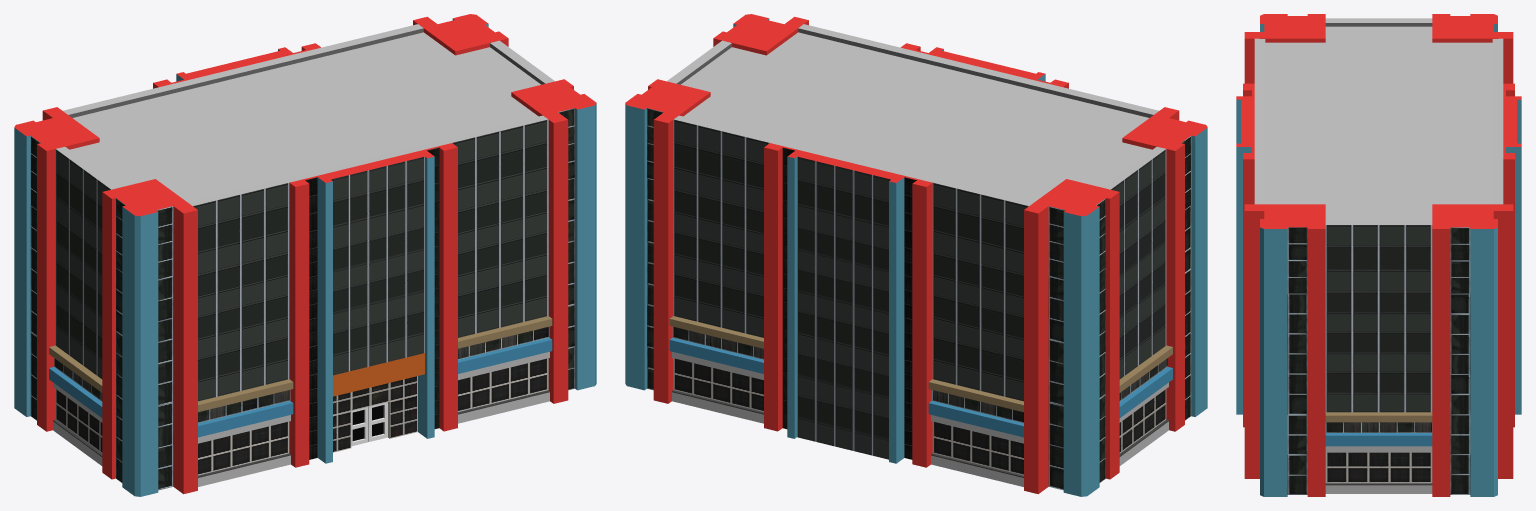
3 renders of one model, left to right at view 1: azimuth 30°, elevation 25°; view 2: azimuth 150°, elevation 25°; view 3: azimuth 270°, elevation 25°, orthographic. The views are drawn at different scales.
Visible parts, largest first — view 1: Building; view 2: Building; view 3: Building.
Boxes of the visible parts, box(x1,y1,x2,y2) form: Building: box(14, 14, 596, 496); Building: box(625, 14, 1207, 496); Building: box(1236, 14, 1521, 496).
Size of what is drawn, in the model's own units: 34.45 by 20 by 19.29.
